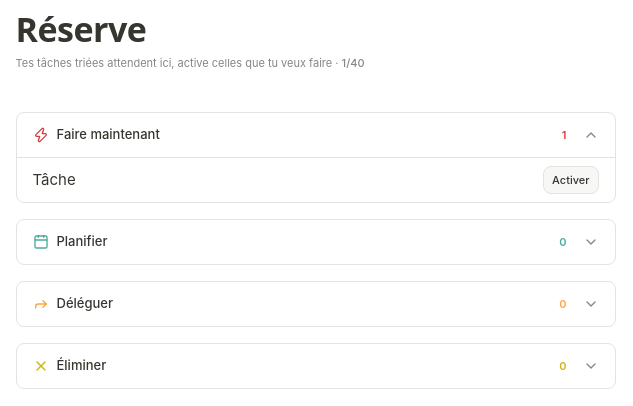
it: BacklogPage › enforces a strict accordion: opening Q2 closes Q1
The width and height of the screenshot is (633, 406).
Click the button "Planifier 0" at coordinates (82, 241), box [16, 220, 614, 264]
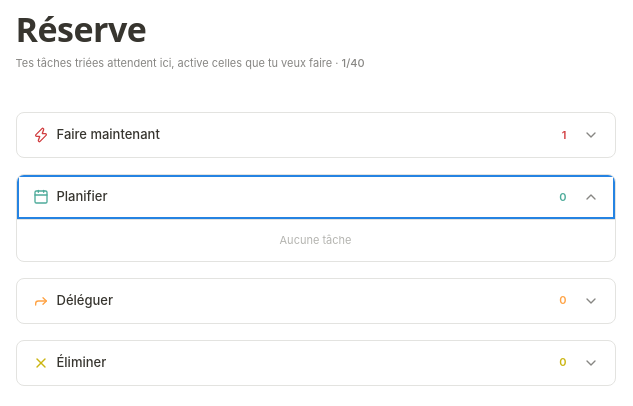
Check: the button "Faire maintenant 1" is collapsed, box [16, 113, 614, 157]
Check: the button "Planifier 0" is expanded, box [16, 175, 614, 219]
